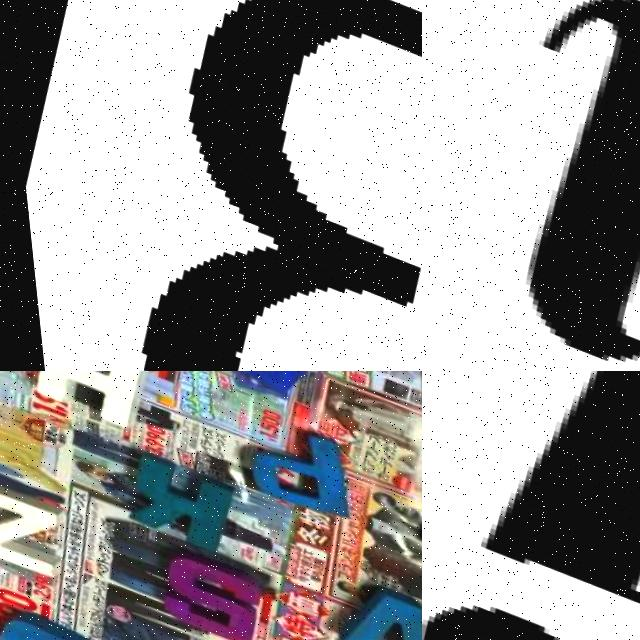3: (49, 0, 422, 371)
B: (182, 371, 340, 402)
H: (17, 371, 150, 427)
J: (422, 371, 640, 640), (0, 602, 93, 640)
K: (110, 447, 226, 552)
P: (227, 403, 364, 521)
S: (142, 541, 255, 640)
V: (324, 576, 422, 640)
Z: (0, 472, 70, 580)
